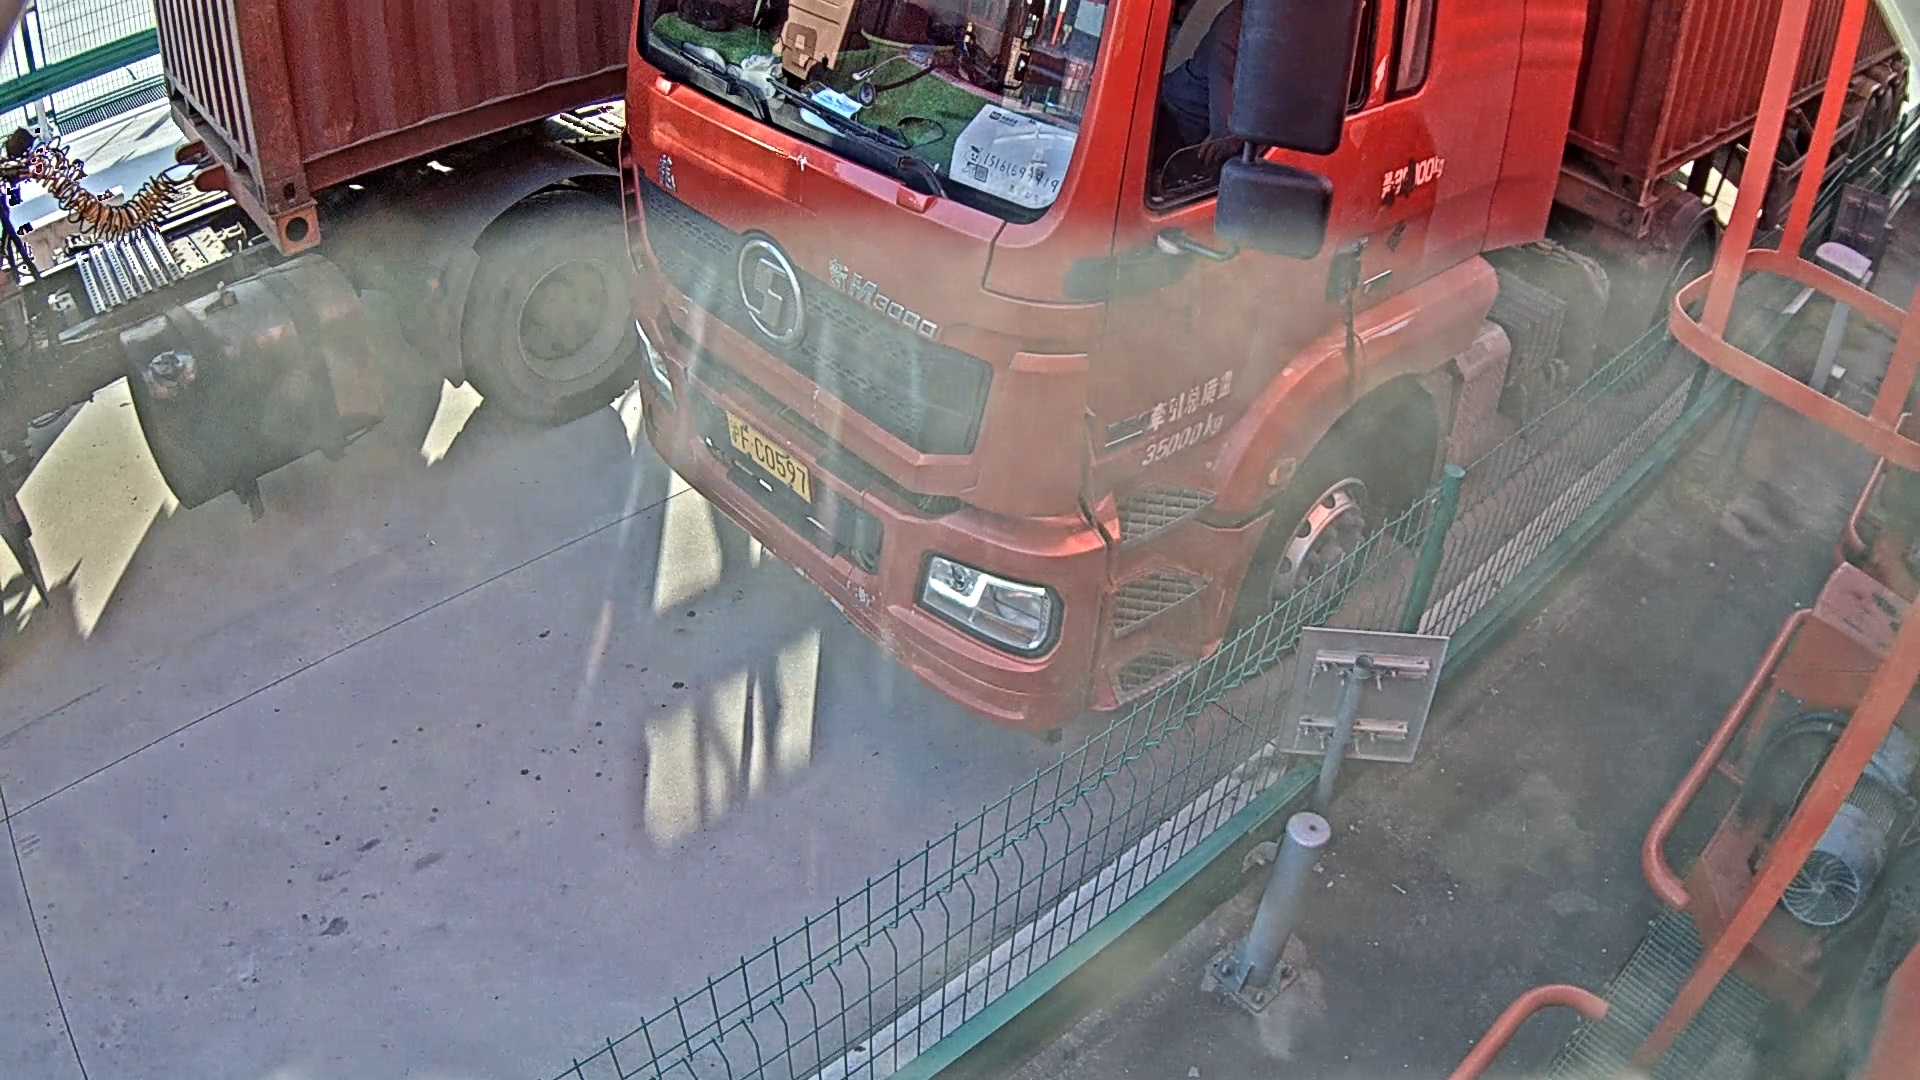head: (621, 1, 1495, 743)
plate: (718, 415, 817, 500)
